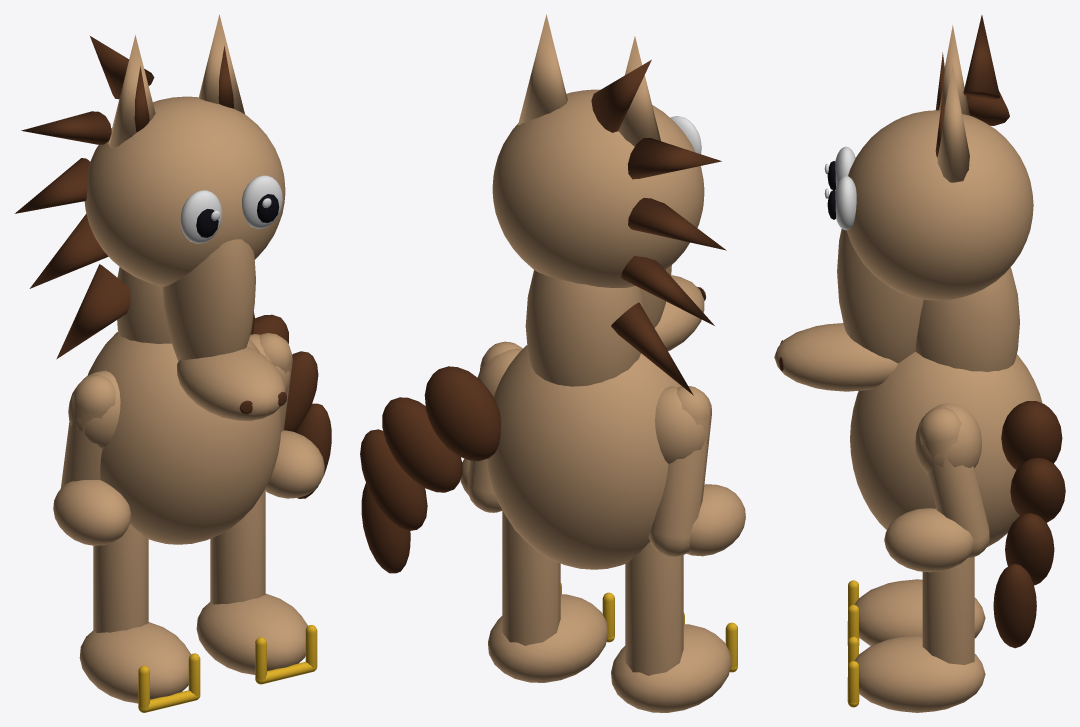
File: horse.glb
3 views of the same model, side by side, from view 1: azimuth 30°, elevation 25°; view 2: azimuth 150°, elevation 25°; view 3: azimuth 270°, elevation 25° (orthographic). The views are drawn at different scales.
Parts seen in each view (by area): view 1: horse; view 2: horse; view 3: horse.
Part boxes in pixels (x1,y1,x2,y2): horse: [14, 14, 331, 712]; horse: [360, 14, 745, 712]; horse: [774, 15, 1065, 712].
Size of the model in its own units: 0.6178 by 1.15 by 0.4799.
